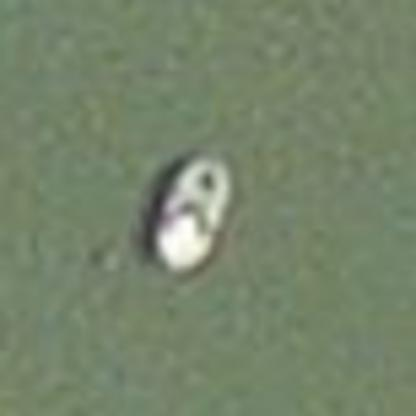ship: (123, 144, 238, 284)
